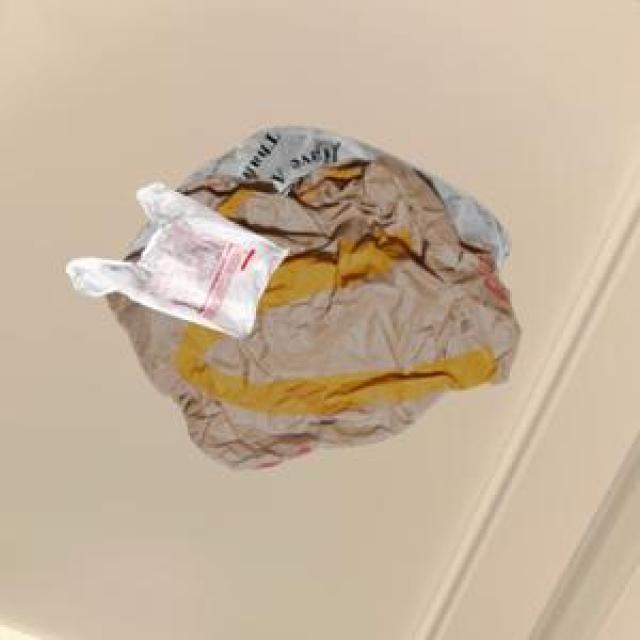paper: (102, 154, 516, 465)
